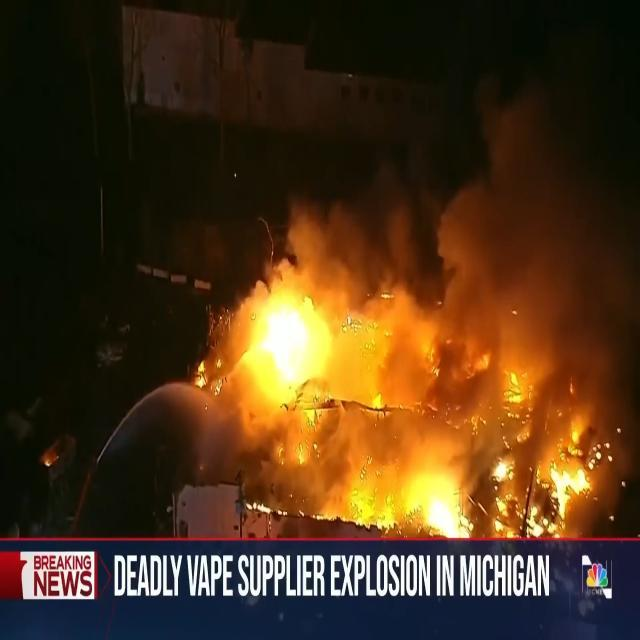fire: (476, 330, 610, 538), (274, 416, 471, 540), (226, 282, 348, 412), (350, 298, 442, 420)
